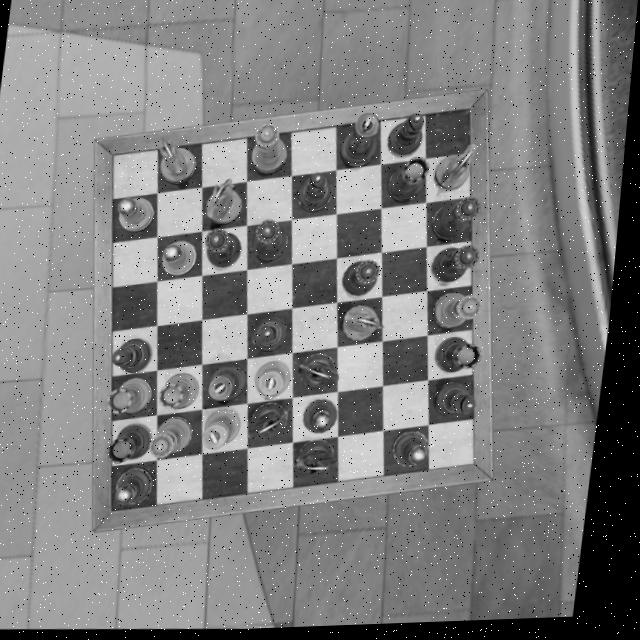chessboard: (115, 113, 483, 511)
